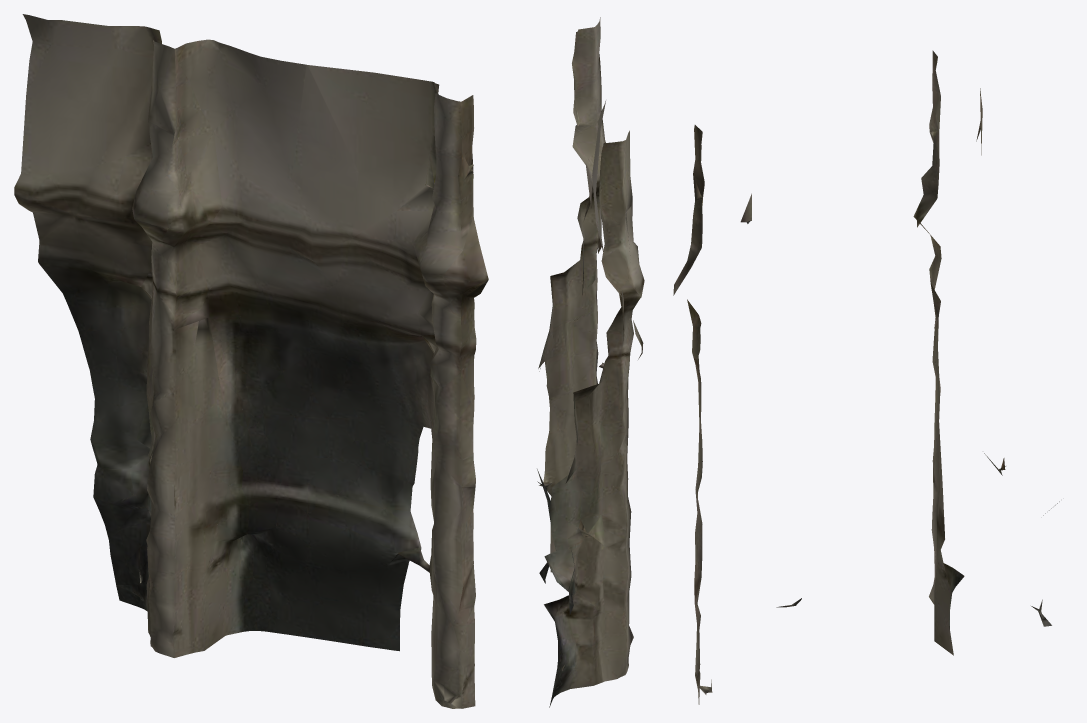
3 renders of one model, left to right at view 1: azimuth 30°, elevation 25°; view 2: azimuth 150°, elevation 25°; view 3: azimuth 270°, elevation 25°, orthographic. The views are drawn at different scales.
Size of the model in its own units: 0.9708 by 2.15 by 1.35.
Materials: 1 (1 with a texture image).
